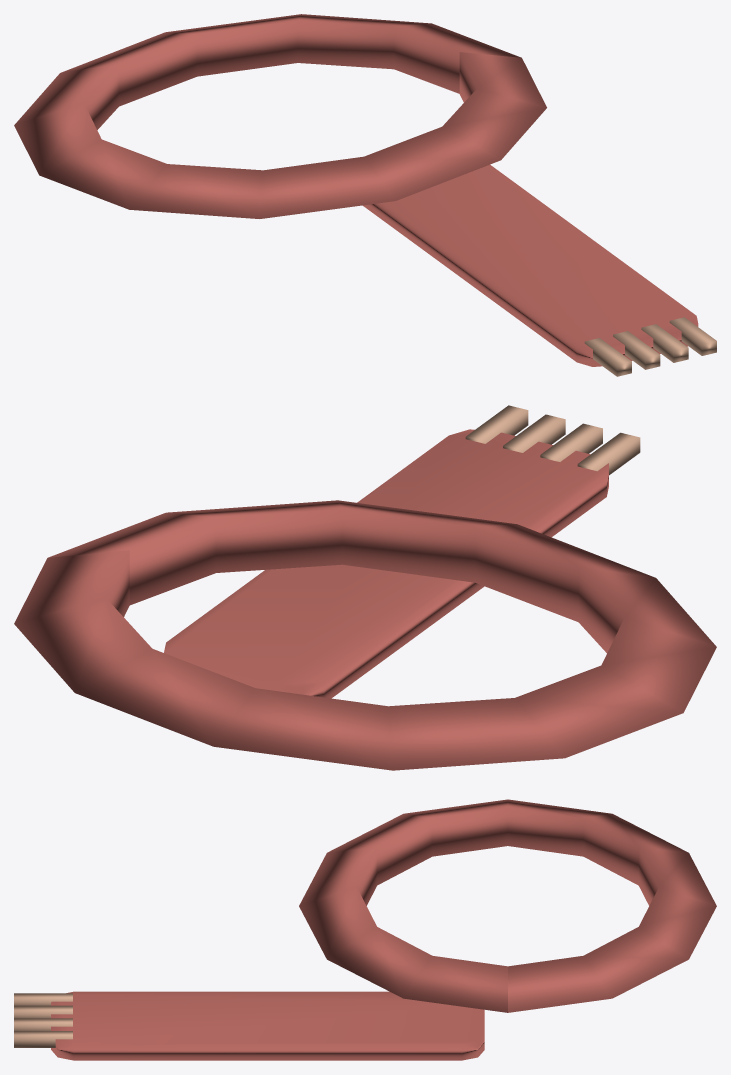
File: wear_scarf.glb
3 renders of one model, top to bottom at view 1: azimuth 30°, elevation 25°; view 2: azimuth 150°, elevation 25°; view 3: azimuth 270°, elevation 25°, orthographic. The views are drawn at different scales.
Visible parts, largest first — view 1: Item, ScarfTail; view 2: Item, ScarfTail; view 3: Item, ScarfTail.
Boxes of the visible parts, x1=… form: Item: x1=14, y1=14, x2=546, y2=218; ScarfTail: x1=363, y1=164, x2=716, y2=376; Item: x1=14, y1=500, x2=716, y2=770; ScarfTail: x1=164, y1=405, x2=640, y2=698; Item: x1=299, y1=799, x2=716, y2=1012; ScarfTail: x1=14, y1=991, x2=484, y2=1060.
Size of the model in its own units: 0.522 by 0.1087 by 0.7264.
